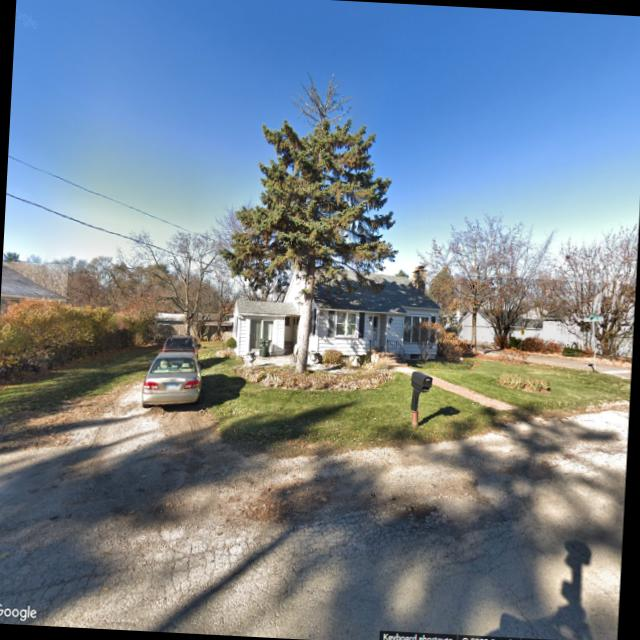House: (231, 255, 445, 378), (458, 276, 636, 357), (1, 262, 68, 302)
